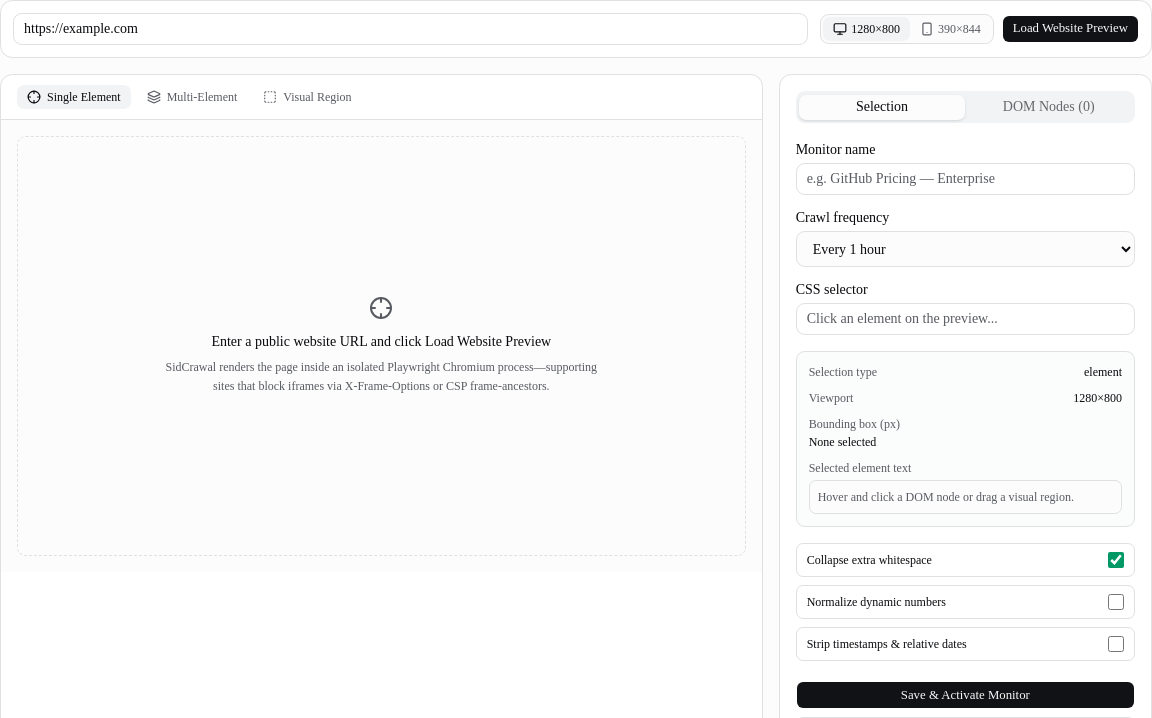
Scenario: WorkspaceStudio UI › shows invalid URL error when private IP is submitted
Replace the text in the field named "Target website URL" with "http://127.0.0.1/secret" at (411, 29), box left=13, top=13, right=808, bottom=45
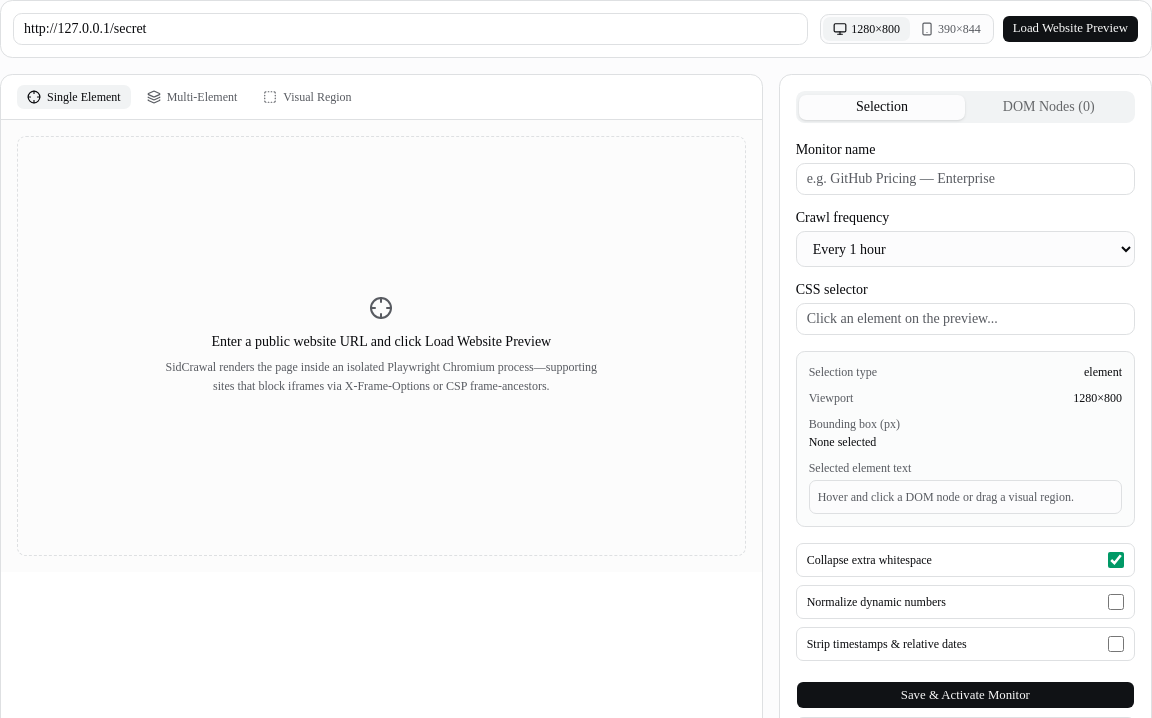
Click the button "Load Website Preview" at (1070, 29), box left=1002, top=15, right=1139, bottom=43
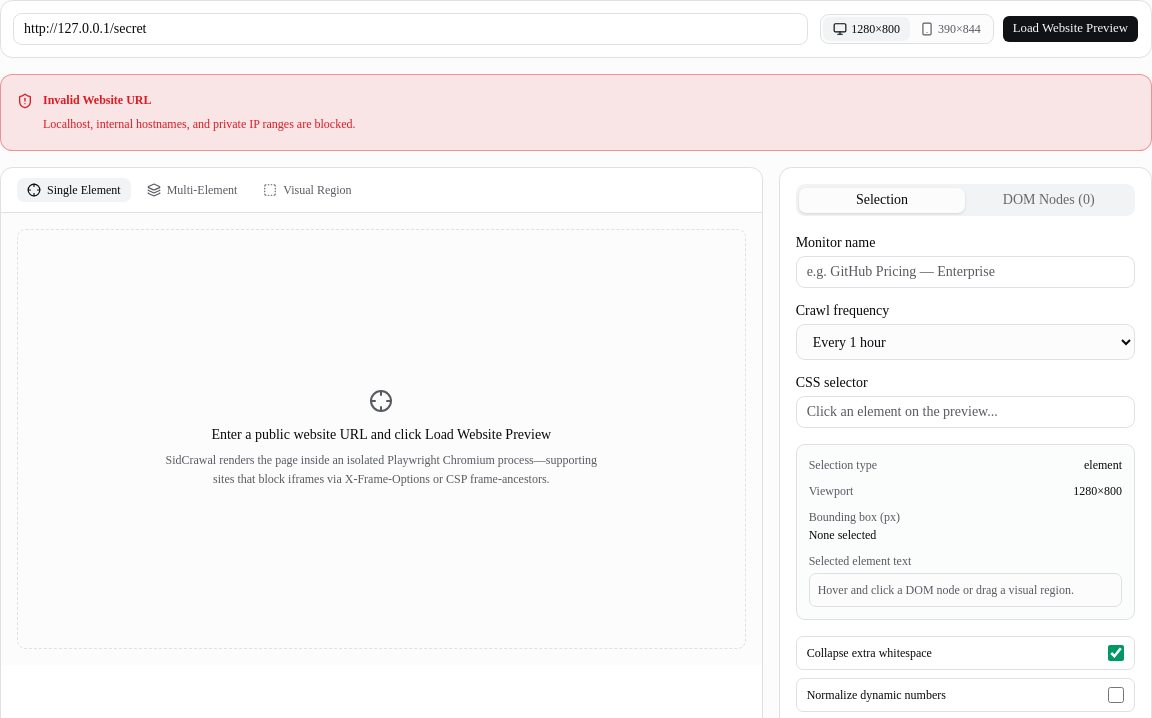
Check: the message shows "Invalid Website URL", box left=43, top=93, right=152, bottom=107
